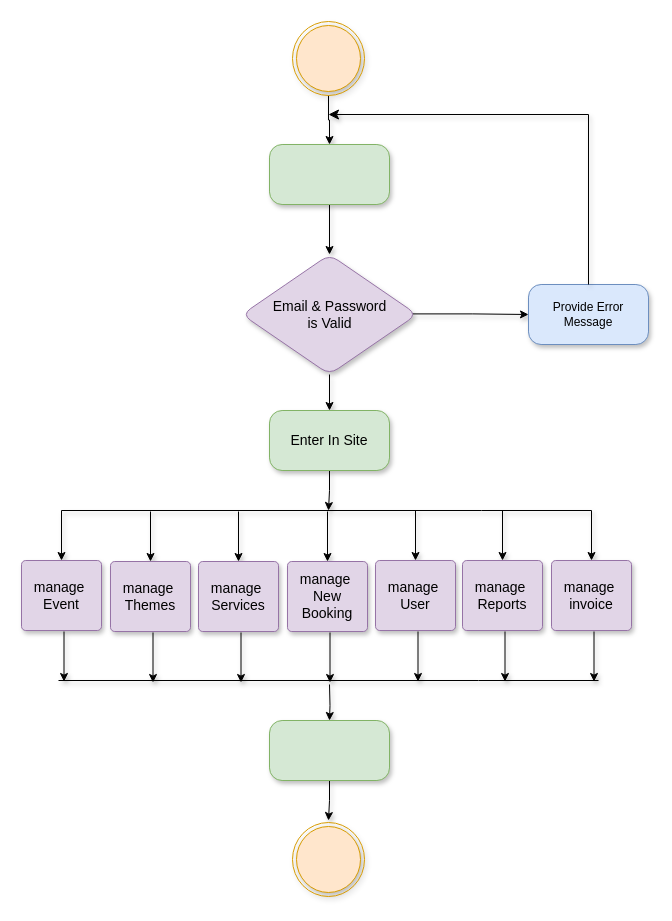
The diagram is 672 pixels wide and 921 high, and some of its shapes have lost their labels. Each missing label, with the centre of its shape:
"Log Out" belongs at point 330,752.
"login" belongs at point 330,176.
